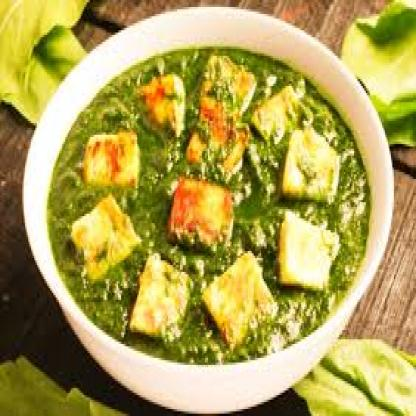palak_paneer: (47, 46, 371, 366)
